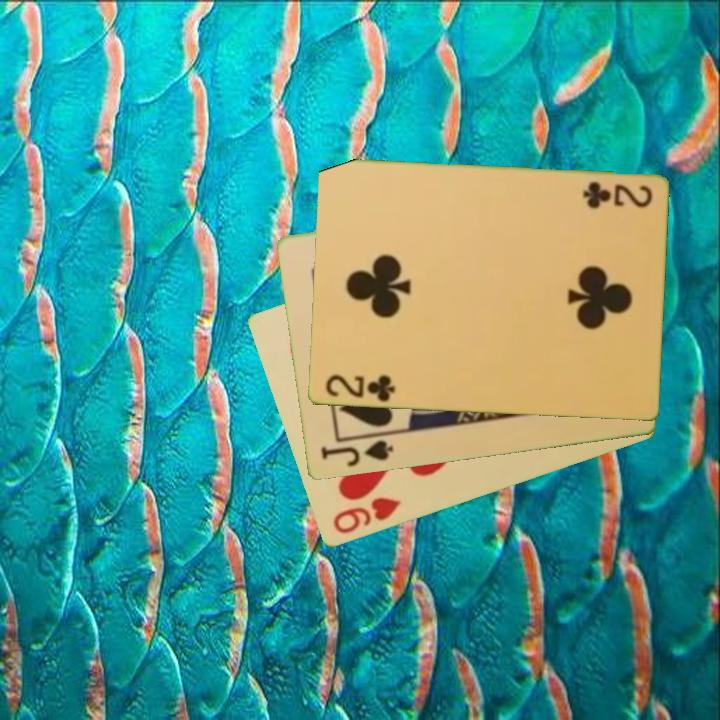2c: (321, 371, 398, 405), (579, 179, 655, 211)
9h: (329, 494, 404, 537)
Js: (317, 437, 396, 470)
